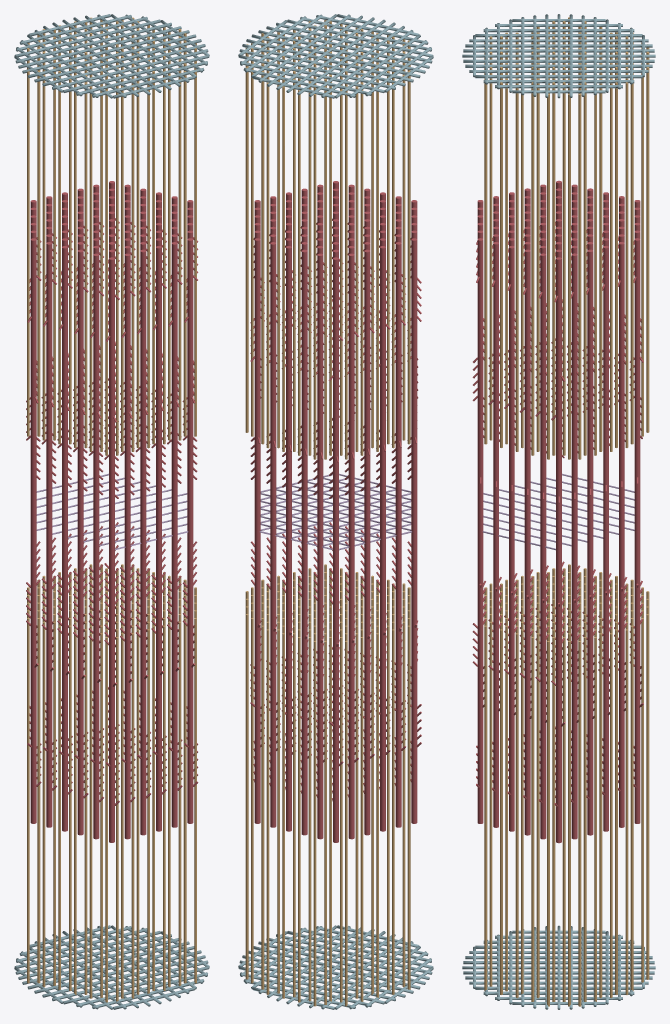
The model's file is sarcomere-detail.glb.
The picture shows the model from 3 angles, left to right: view 1: azimuth 30°, elevation 25°; view 2: azimuth 150°, elevation 25°; view 3: azimuth 270°, elevation 25°; orthographic projection.
Visible parts, largest first — view 1: pilot-thick-filaments, pilot-thin-left, pilot-thin-right, pilot-z-right, pilot-z-left, pilot-m-line; view 2: pilot-thick-filaments, pilot-thin-left, pilot-thin-right, pilot-z-right, pilot-z-left, pilot-m-line; view 3: pilot-thick-filaments, pilot-thin-left, pilot-thin-right, pilot-z-right, pilot-z-left, pilot-m-line.
Boxes of the visible parts, bbox=[...] form: pilot-thick-filaments: bbox=[26, 181, 198, 842]; pilot-thin-left: bbox=[27, 564, 196, 1002]; pilot-thin-right: bbox=[27, 17, 196, 455]; pilot-z-right: bbox=[14, 14, 209, 98]; pilot-z-left: bbox=[14, 925, 209, 1009]; pilot-m-line: bbox=[36, 473, 188, 550]; pilot-thick-filaments: bbox=[250, 181, 421, 842]; pilot-thin-left: bbox=[245, 564, 410, 1006]; pilot-thin-right: bbox=[245, 20, 410, 459]; pilot-z-right: bbox=[238, 14, 433, 98]; pilot-z-left: bbox=[238, 925, 433, 1009]; pilot-m-line: bbox=[259, 473, 411, 550]; pilot-thick-filaments: bbox=[472, 180, 643, 843]; pilot-thin-left: bbox=[484, 564, 649, 1006]; pilot-thin-right: bbox=[484, 17, 649, 459]; pilot-z-right: bbox=[462, 14, 655, 98]; pilot-z-left: bbox=[462, 925, 655, 1009]; pilot-m-line: bbox=[482, 473, 634, 550].
Bounding box in the file's own units: 4.89e-07 × 2.51e-06 × 4.8e-07.
